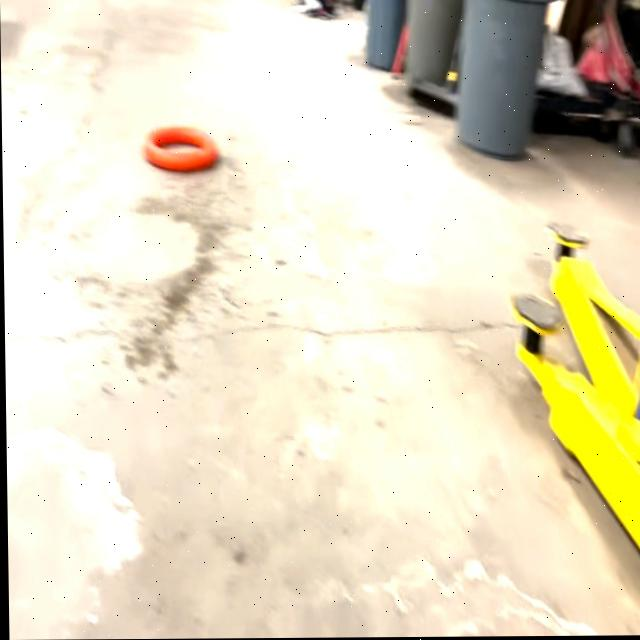note: (141, 123, 219, 178)
